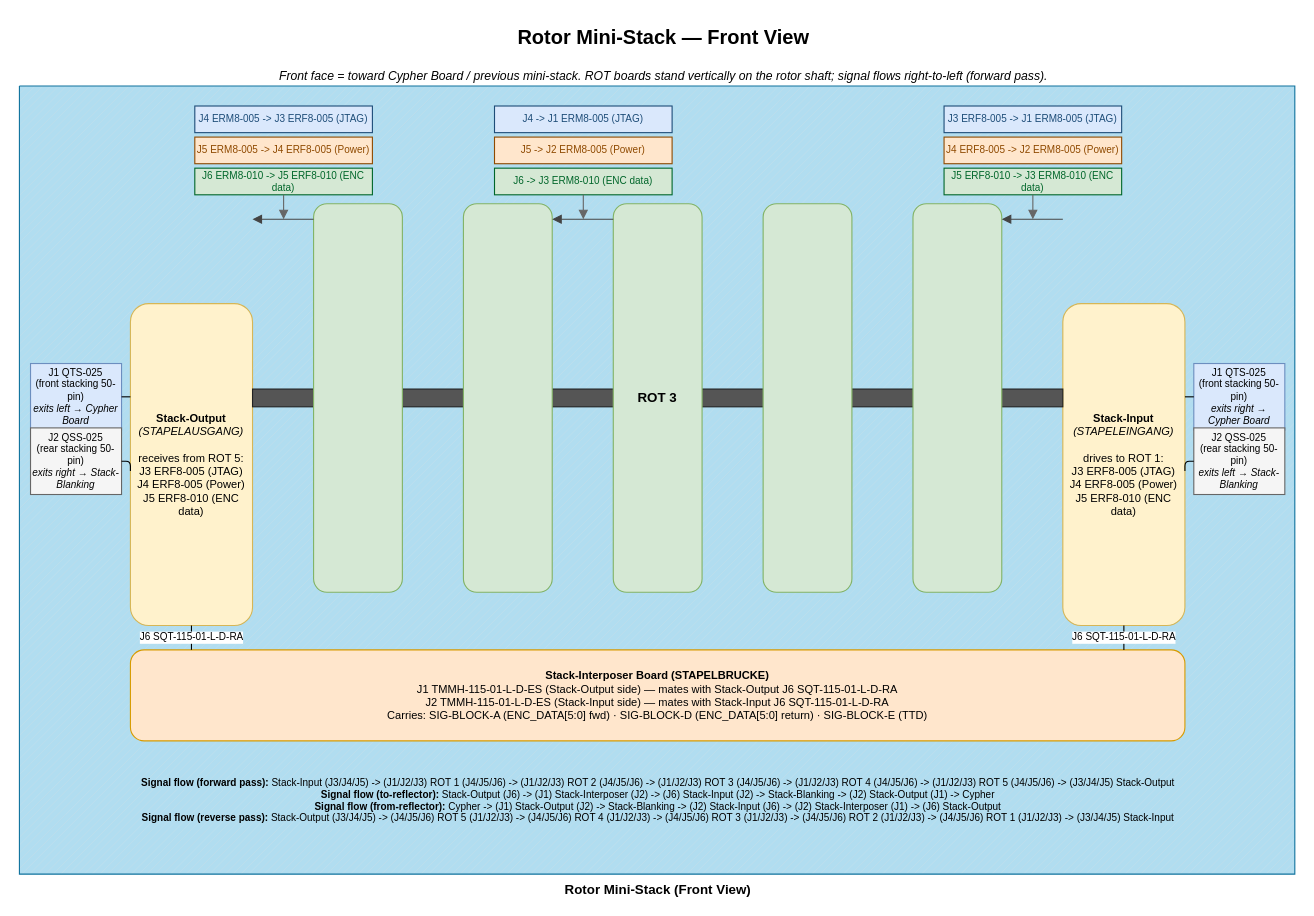
Image size: 1314x916. Some labels were removed from this diagram. The centre of each missing label's shape, as x and y in pixels:
ROT 1: (957,397)
ROT 2: (807,397)
ROT 4: (507,397)
ROT 5: (357,397)
